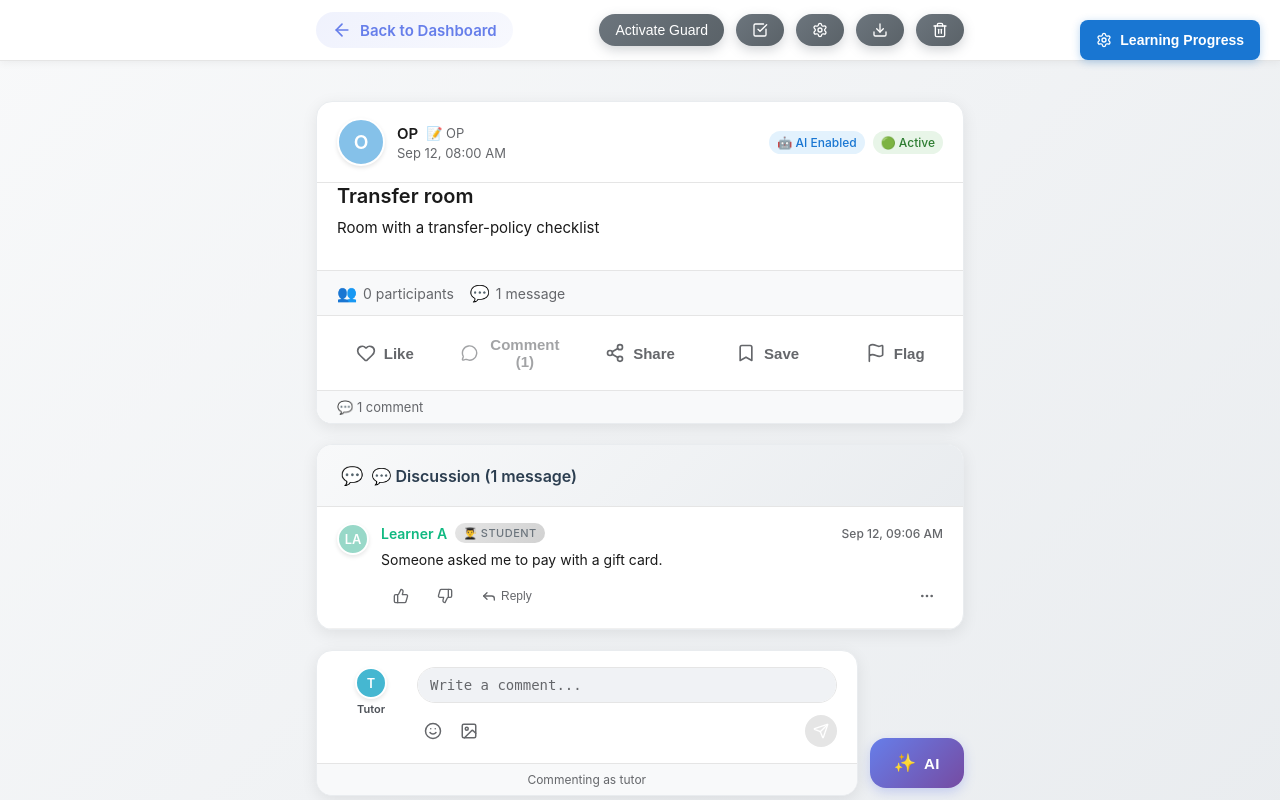
RoomPagePost transfer lifecycle states › offers TXT and JSON downloads without offering PDF
Click the button titled "Download Chat History" at (880, 30), box [856,14,904,46]
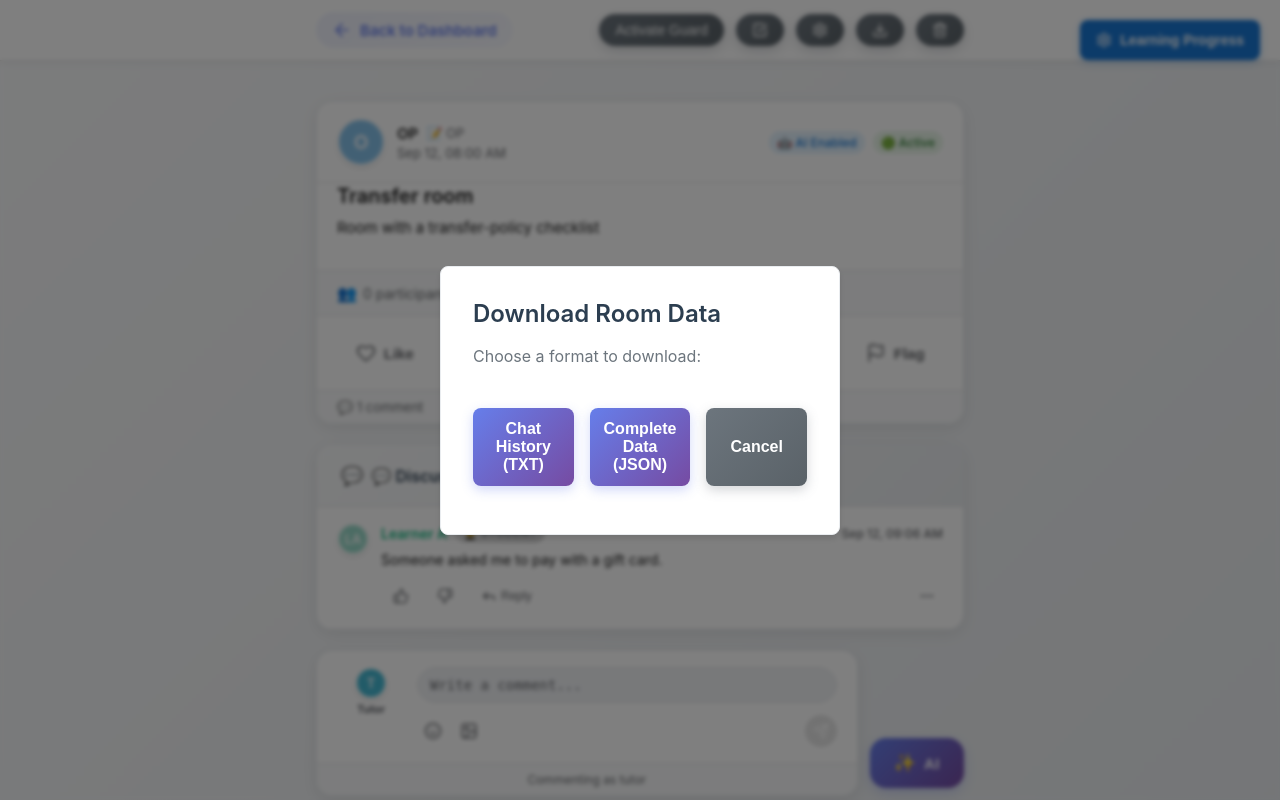
Expected: the heading "Download Room Data" is shown, [473,298,721,328]
Expected: the button "Chat History (TXT)" is shown, [473,408,574,486]
Expected: the button "Complete Data (JSON)" is shown, [590,408,690,486]
